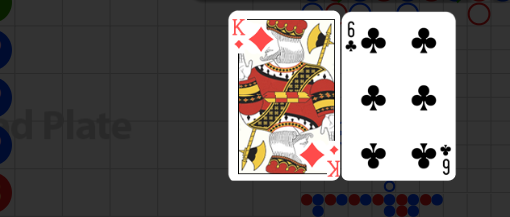6C: (345, 20, 359, 54)
KD: (230, 17, 245, 50)
